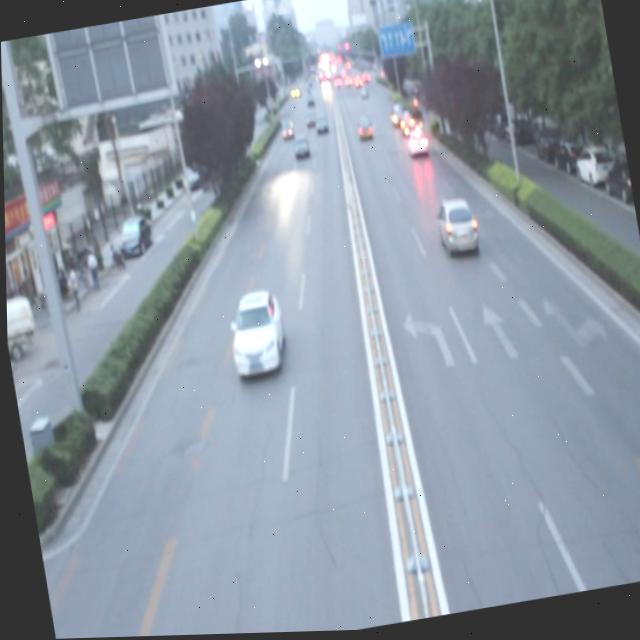car: (222, 291, 286, 379), (432, 195, 479, 261)
